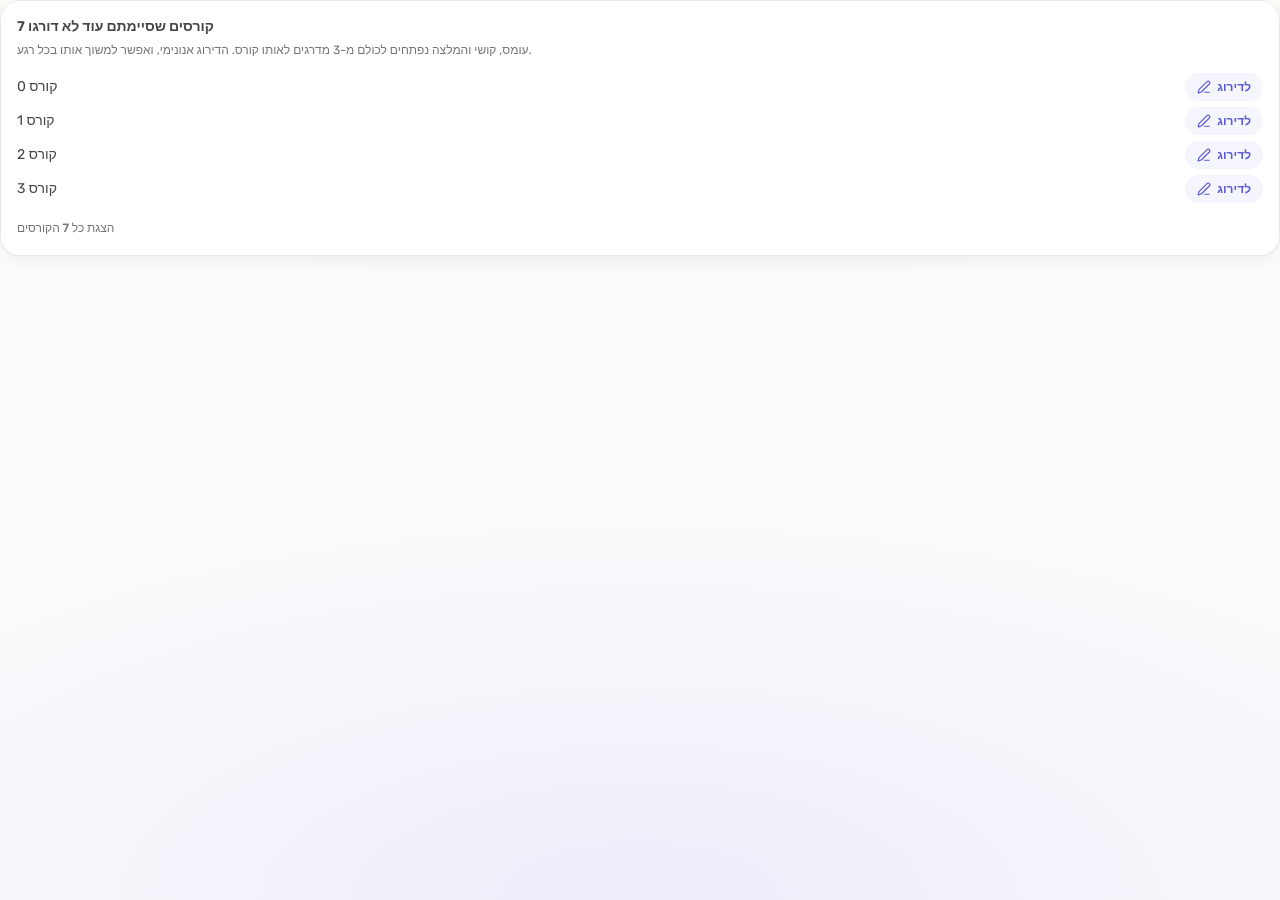
Test: LineageFirstContribution › folds a long list behind a toggle instead of dumping every course
Expected: the number of buttons "לדירוג" is 4, [1185, 72, 1263, 100]; [1185, 106, 1263, 134]; [1185, 140, 1263, 168]; [1185, 174, 1263, 202]
Click the button "הצגת כל 7 הקורסים": click(66, 228) [17, 220, 114, 236]
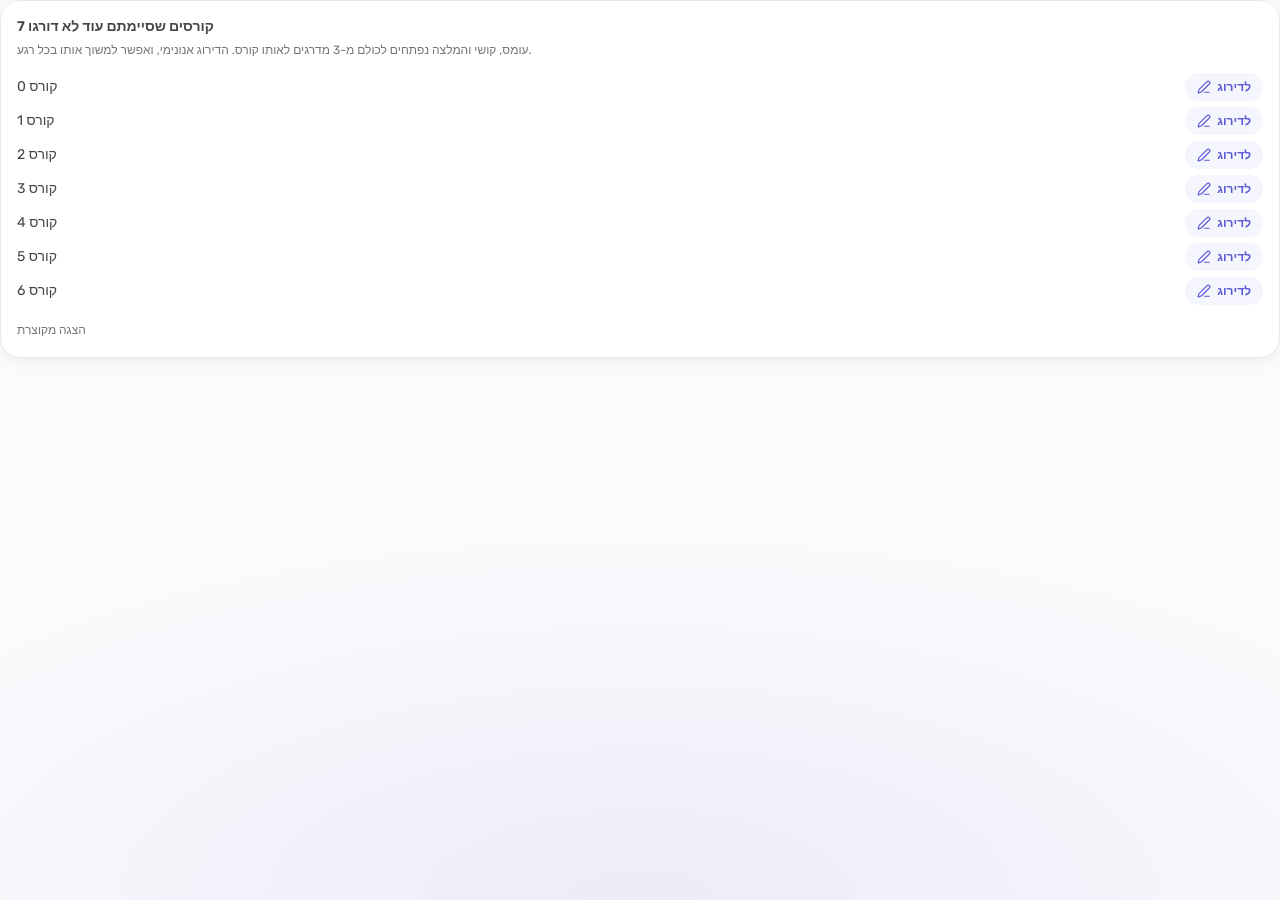
Expected: the number of buttons "לדירוג" is 7
